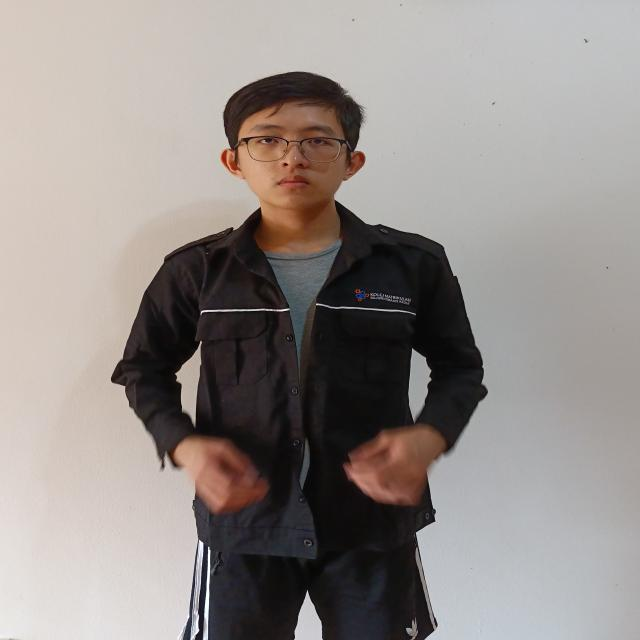person_with_labcoat: (113, 72, 486, 640)
